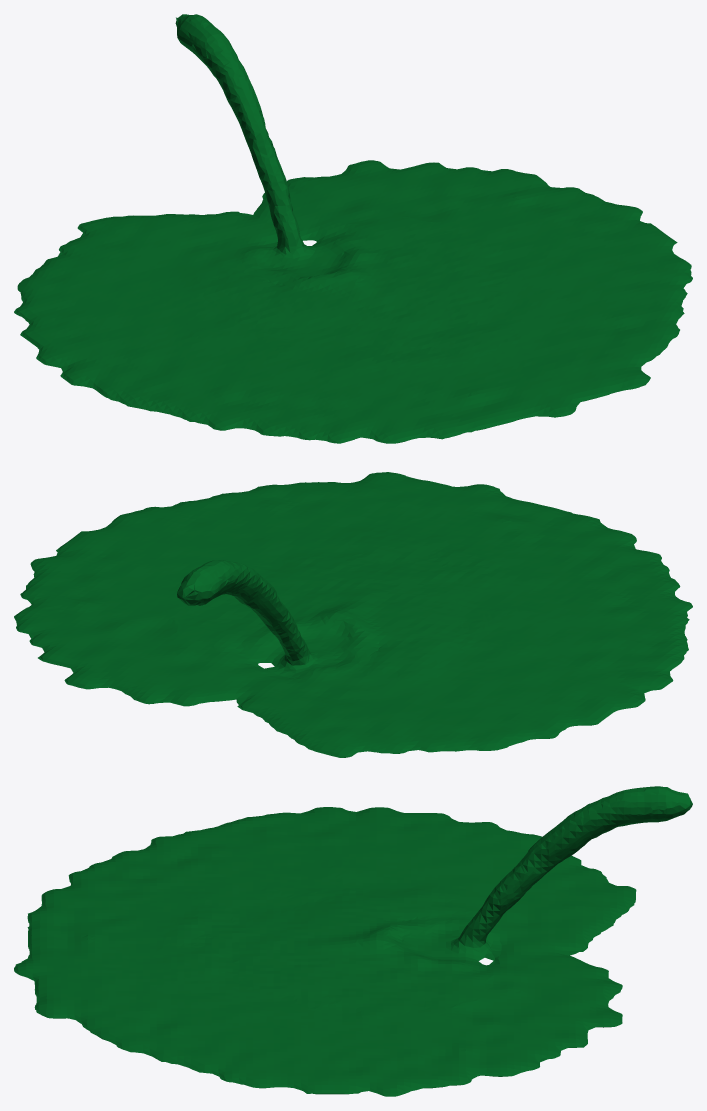
File: fluid_37.fbx
3 views of the same model, one above another, from view 1: azimuth 30°, elevation 25°; view 2: azimuth 150°, elevation 25°; view 3: azimuth 270°, elevation 25° (orthographic). The views are drawn at different scales.
Visible parts, largest first — view 1: Cube; view 2: Cube; view 3: Cube.
Boxes of the visible parts, box(x1,y1,x2,y2) form: Cube: box(14, 14, 692, 443); Cube: box(14, 472, 692, 757); Cube: box(14, 786, 692, 1096).
Bounding box in the file's own units: 654 × 177 × 648.
